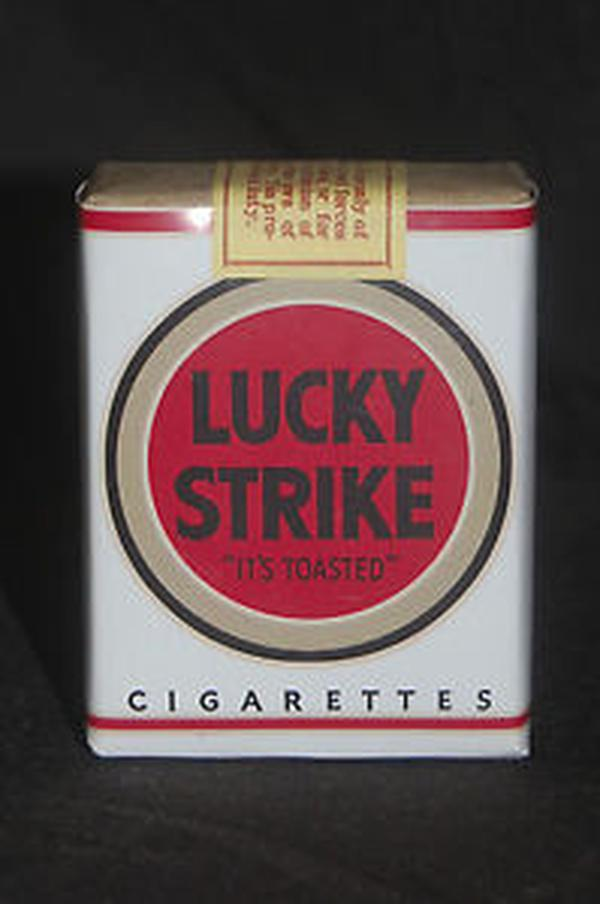lucky_strike_red: (91, 202, 521, 757)
